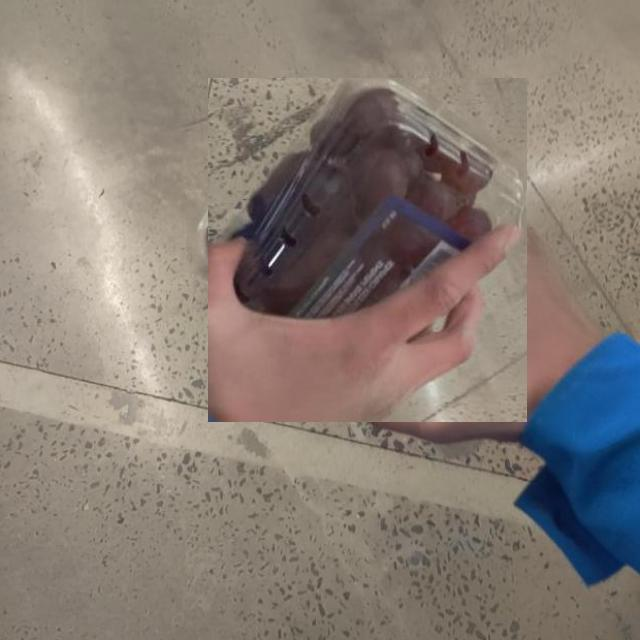Grapes: (207, 78, 527, 422)
